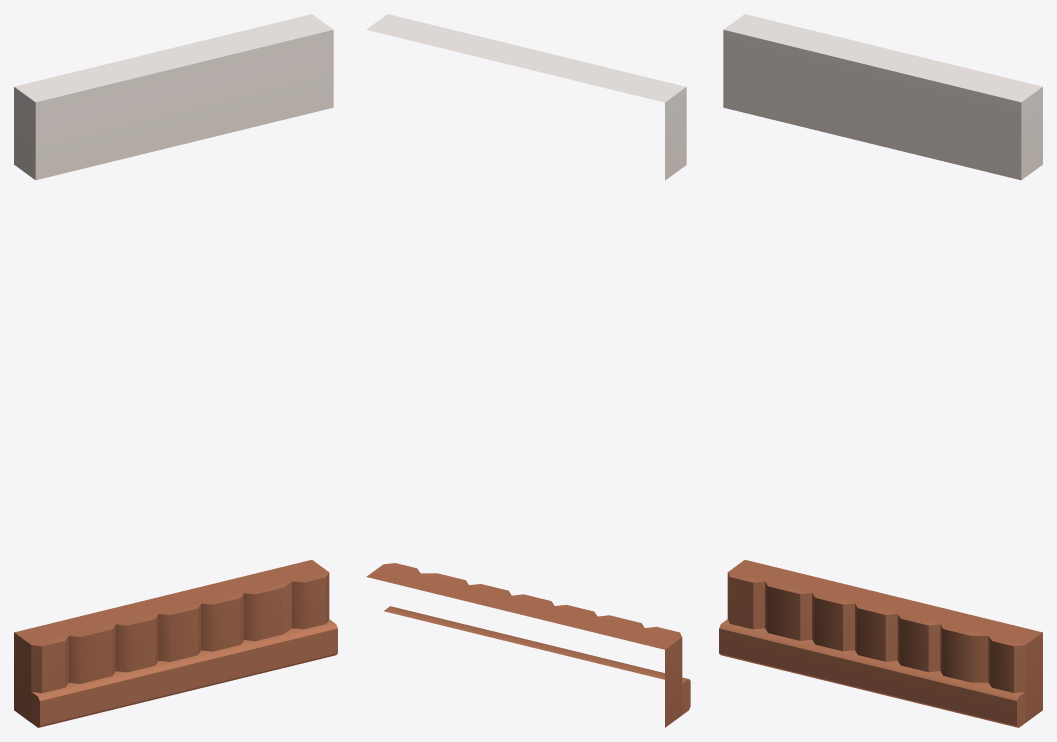
File: wall-modular-panelled-bakery-window-full-center-a.glb
The picture shows the model from 3 angles, left to right: view 1: azimuth 30°, elevation 25°; view 2: azimuth 150°, elevation 25°; view 3: azimuth 330°, elevation 25°; orthographic projection.
Parts seen in each view (by area): view 1: wall_modular_panelled_bakery_window_full_center_A; view 2: wall_modular_panelled_bakery_window_full_center_A; view 3: wall_modular_panelled_bakery_window_full_center_A.
Part boxes in pixels (x1,y1,x2,y2): wall_modular_panelled_bakery_window_full_center_A: (14, 14, 337, 727); wall_modular_panelled_bakery_window_full_center_A: (366, 14, 690, 727); wall_modular_panelled_bakery_window_full_center_A: (719, 14, 1042, 727).
Bounding box in the file's own units: 2 × 4 × 0.3.
1 material, 1 textured.
